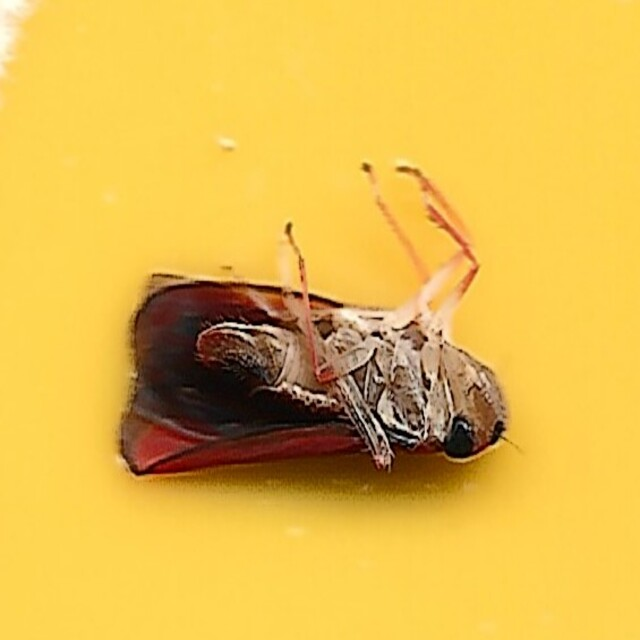Hemiptera: (113, 160, 527, 480)
